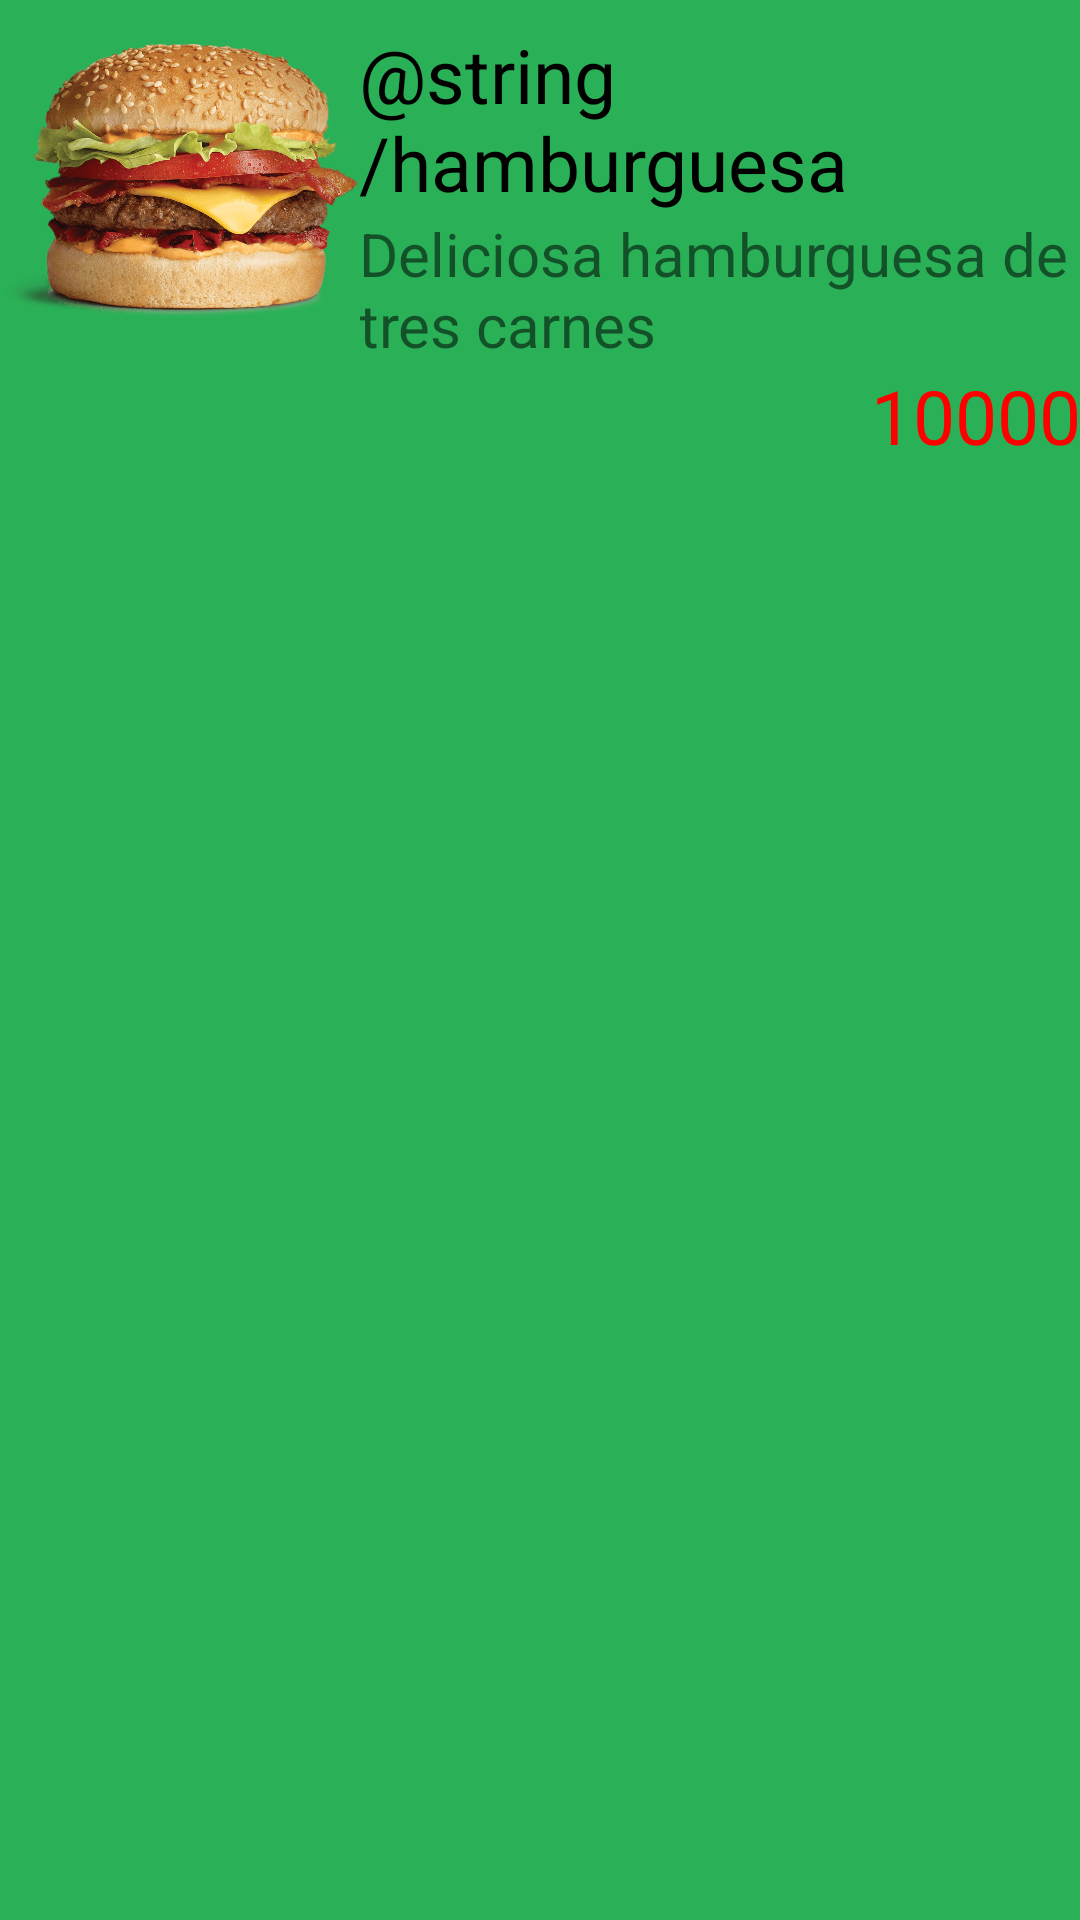

Icon click points for this 1080×1920 phone screenshot, format (x,y):
burguer: (189,179)
